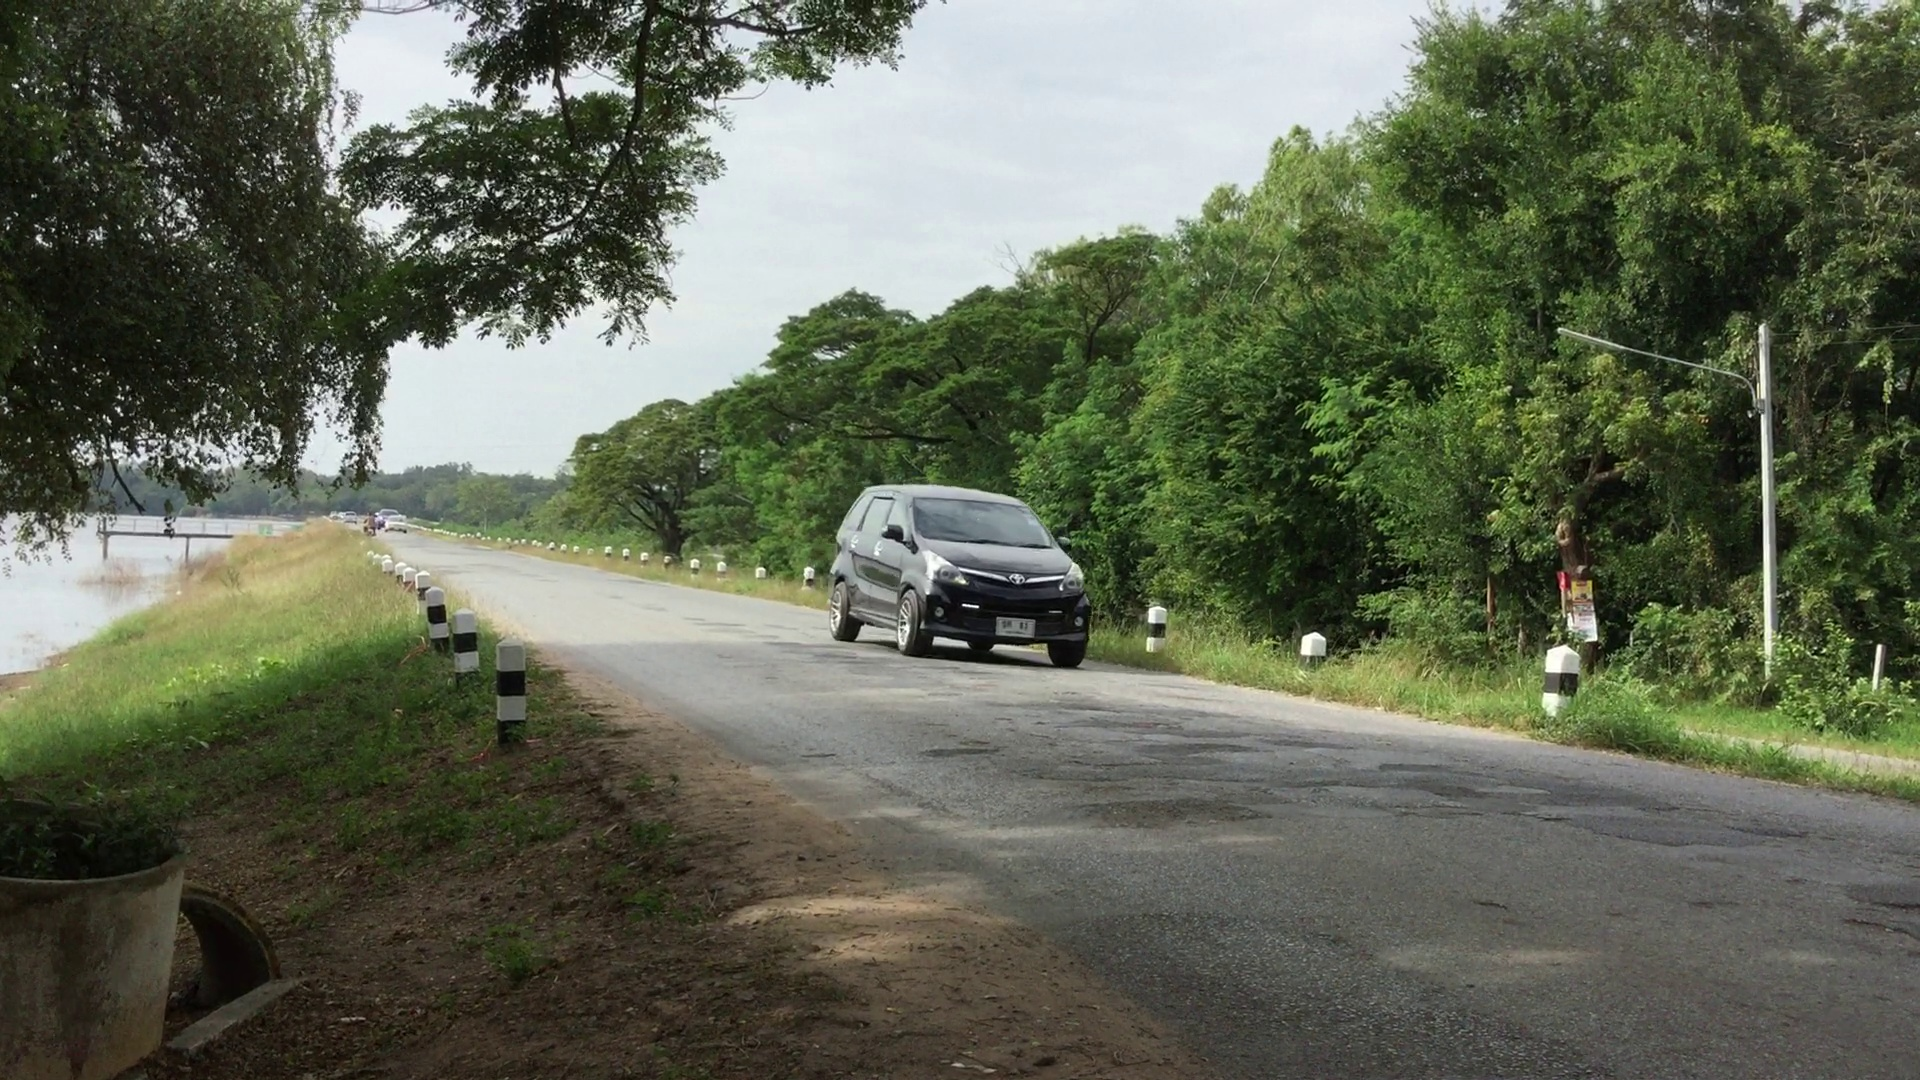car: (829, 477, 1096, 665)
post: (493, 637, 530, 738), (448, 603, 483, 687), (1542, 642, 1578, 716), (425, 584, 450, 651), (1141, 604, 1168, 655), (1300, 630, 1328, 669)
